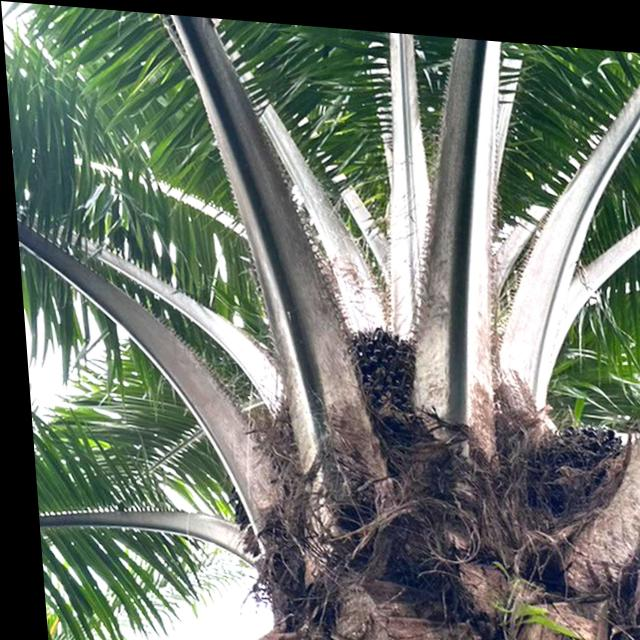unripe: (511, 405, 633, 525), (329, 312, 427, 424)
